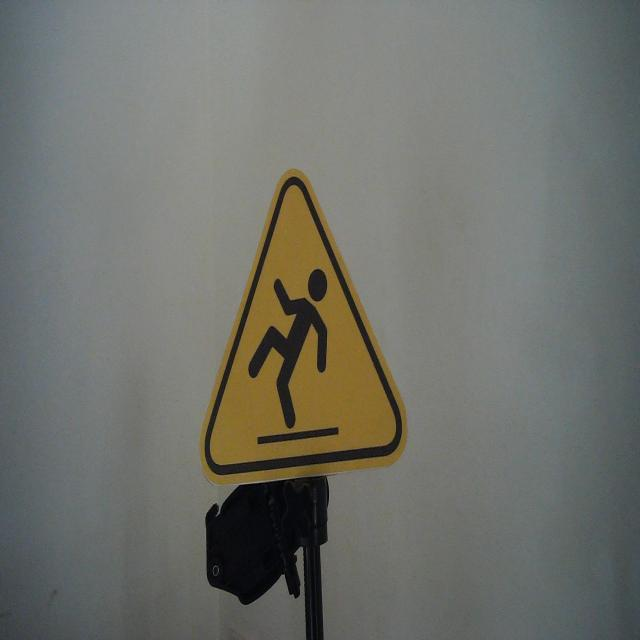slippery_sign: (196, 166, 411, 491)
